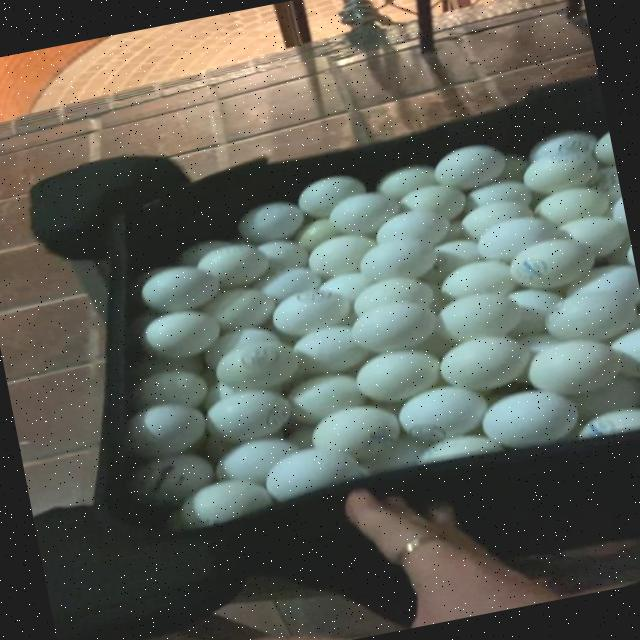ping-pong-ball: (388, 369, 506, 449), (518, 326, 631, 408), (300, 392, 408, 469), (532, 277, 640, 352), (434, 325, 540, 400), (474, 379, 581, 453), (205, 328, 308, 402), (339, 290, 442, 362), (500, 224, 600, 298), (202, 378, 303, 448), (128, 251, 228, 321), (176, 468, 276, 537), (338, 341, 442, 407), (133, 300, 231, 370), (267, 278, 363, 346), (464, 204, 564, 268), (508, 138, 606, 202), (346, 226, 441, 290), (362, 200, 463, 260), (187, 230, 281, 294), (418, 134, 512, 197), (436, 283, 528, 346), (310, 182, 408, 239), (544, 204, 630, 268), (525, 178, 614, 236), (230, 191, 306, 245)
